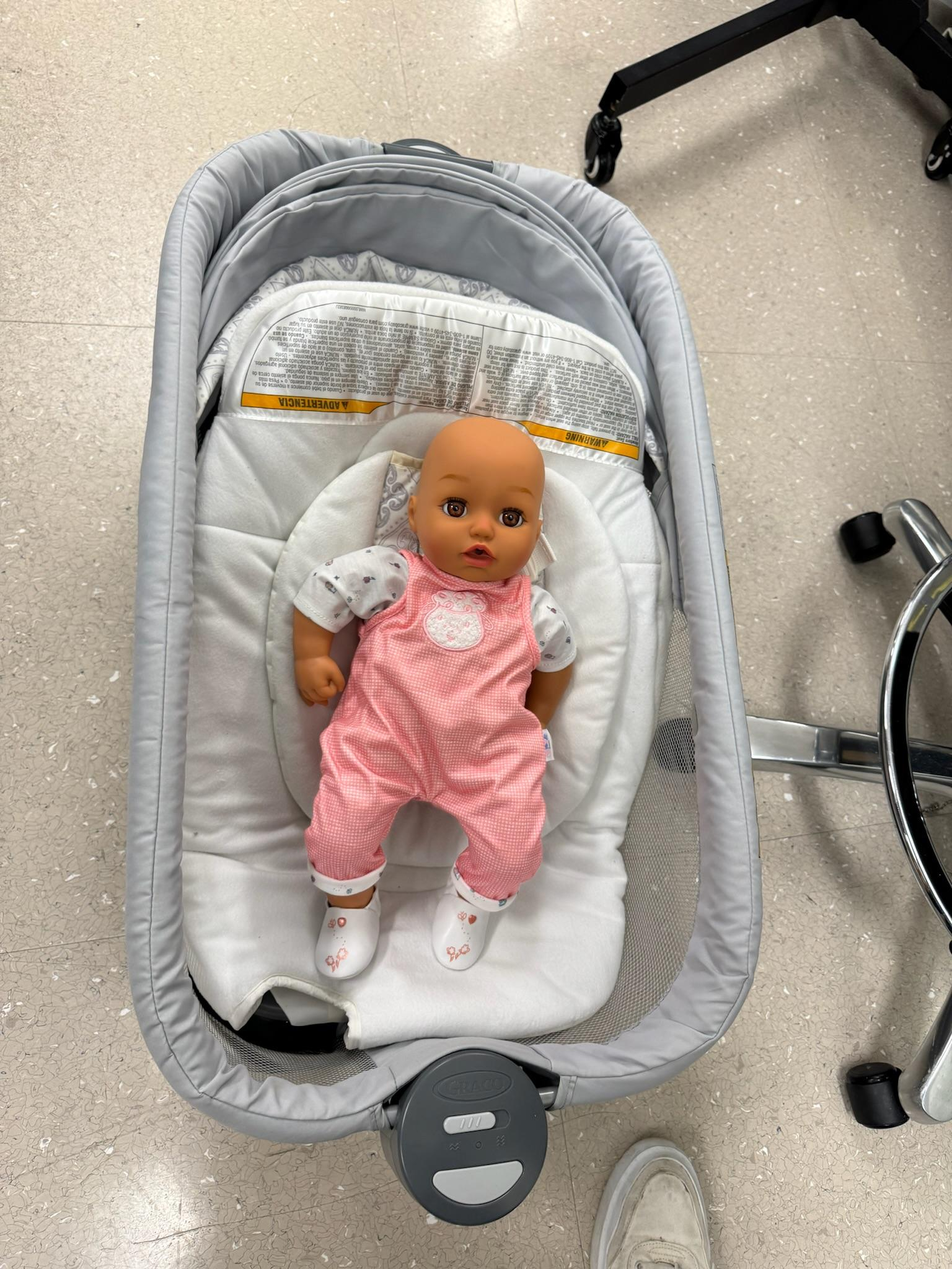baby: (279, 411, 583, 980)
